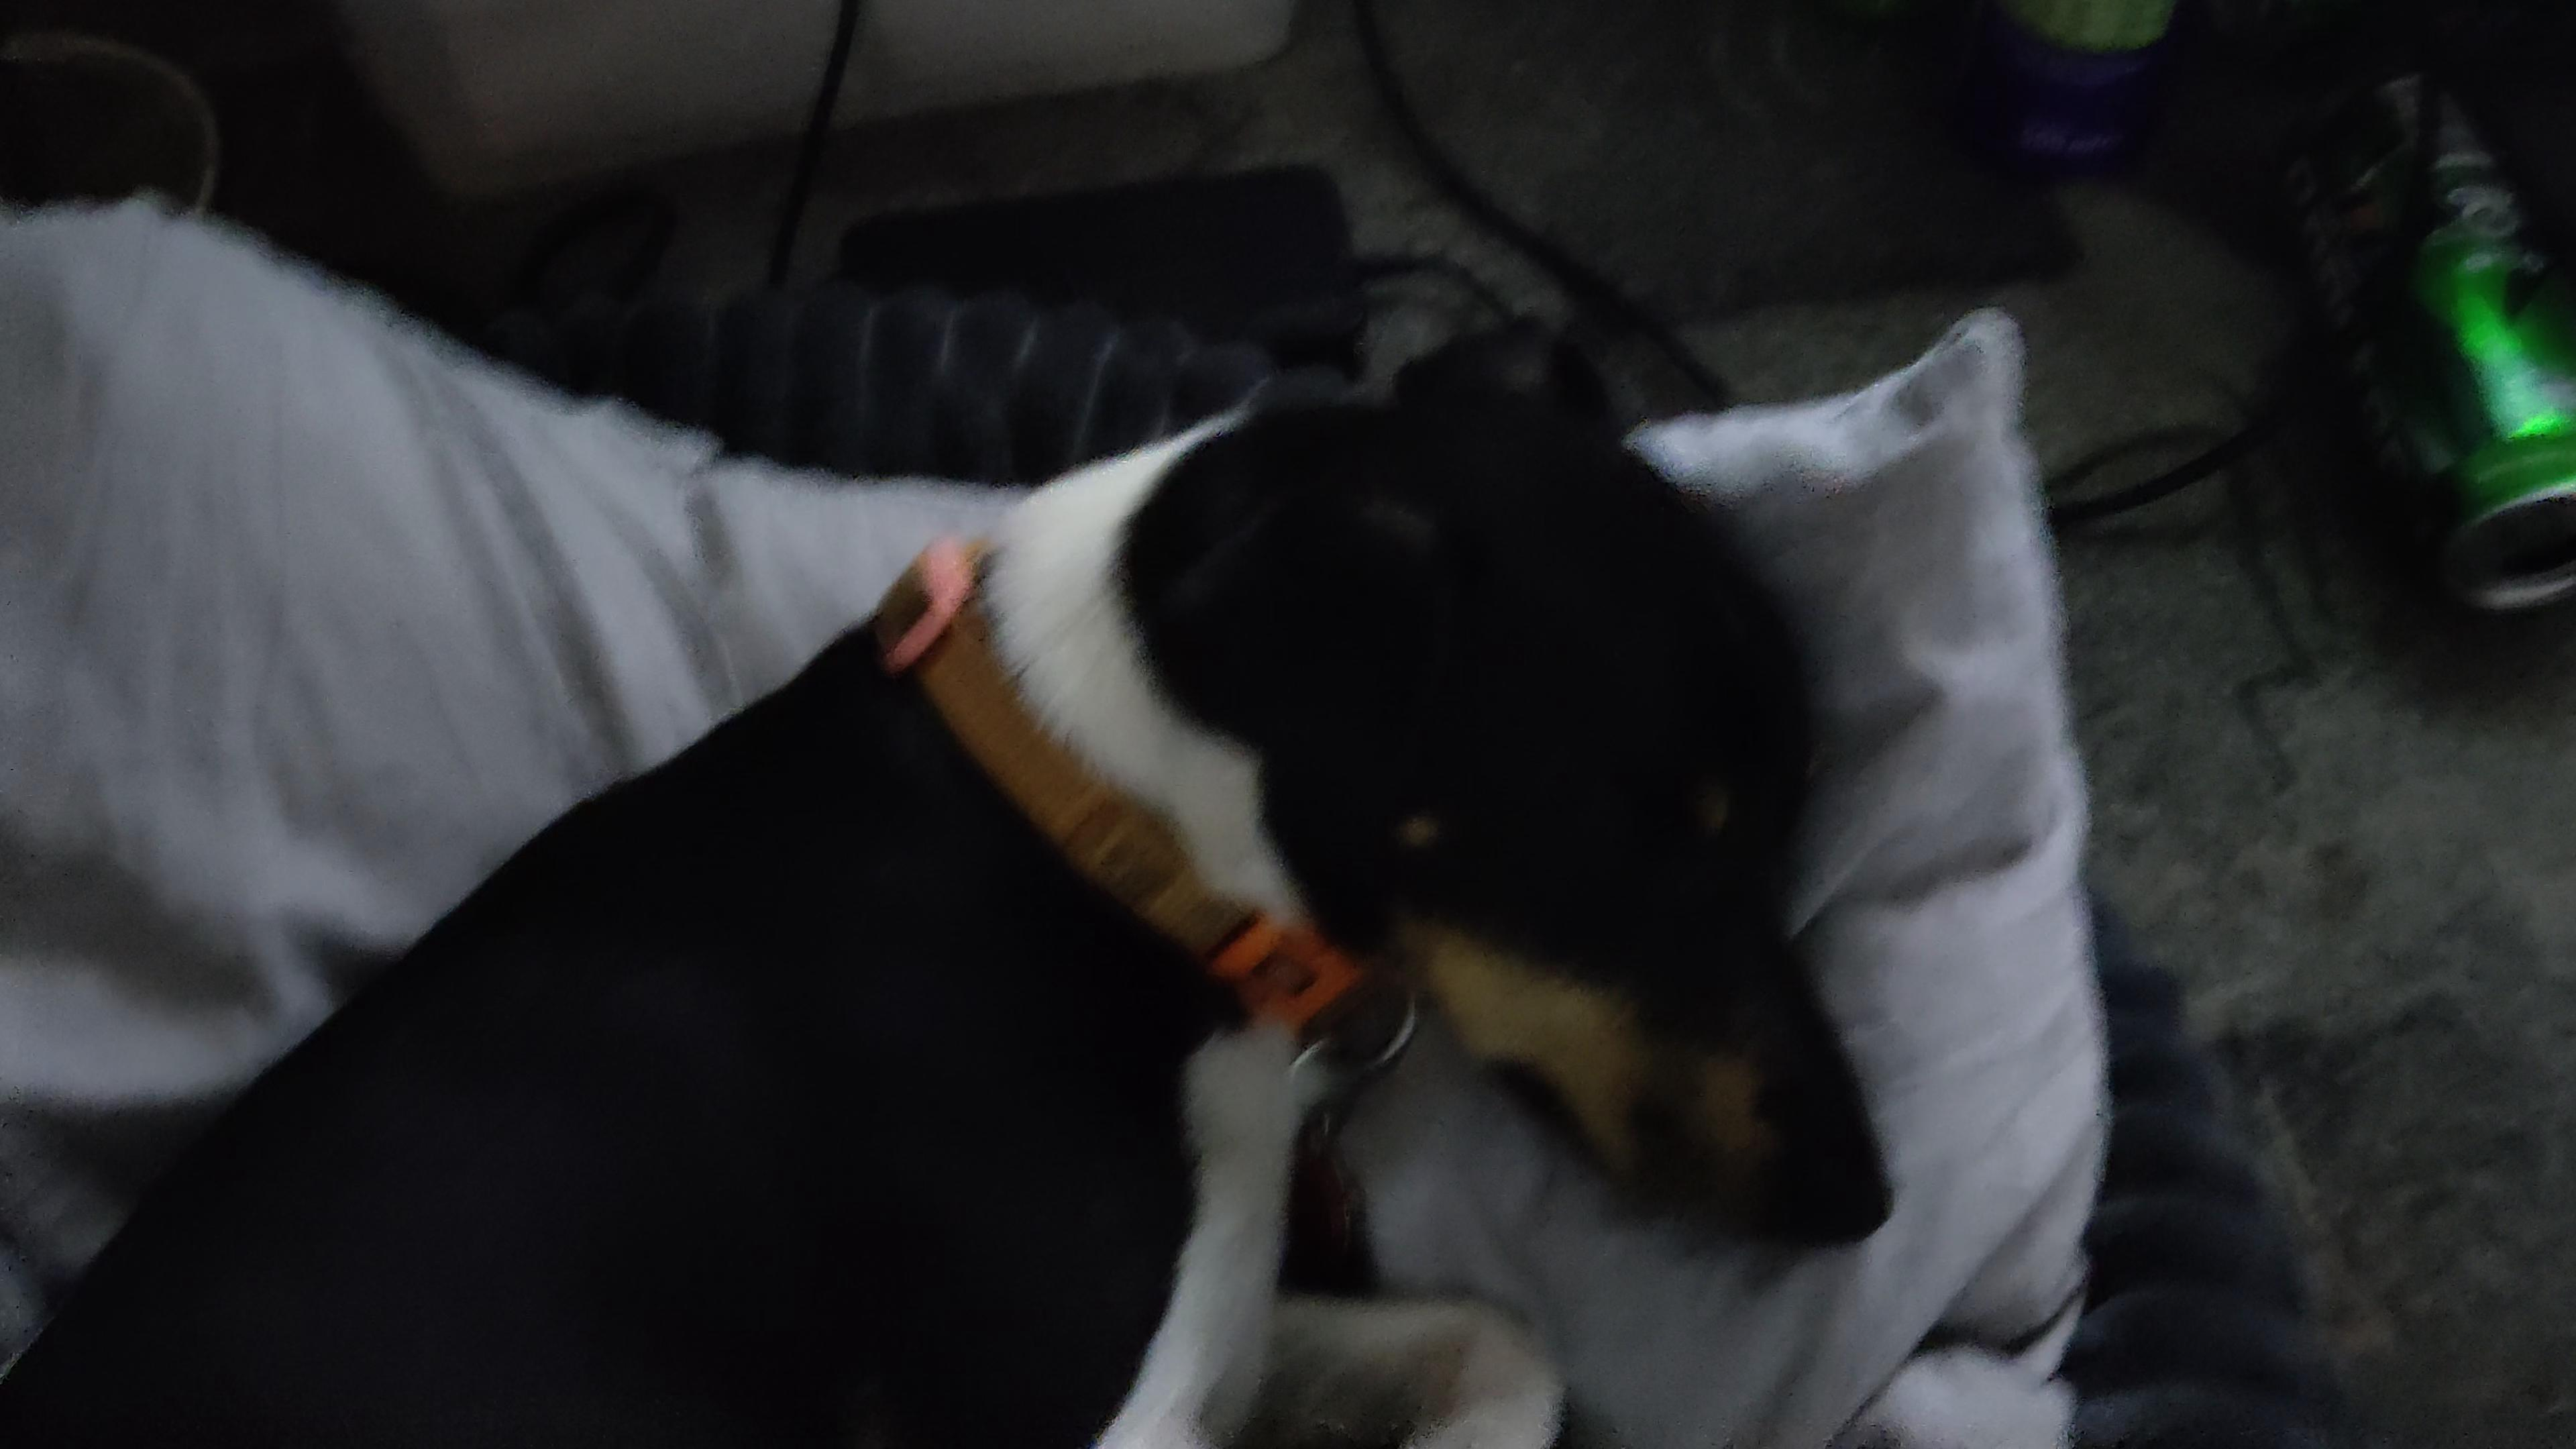Dog: (0, 306, 1921, 1449)
